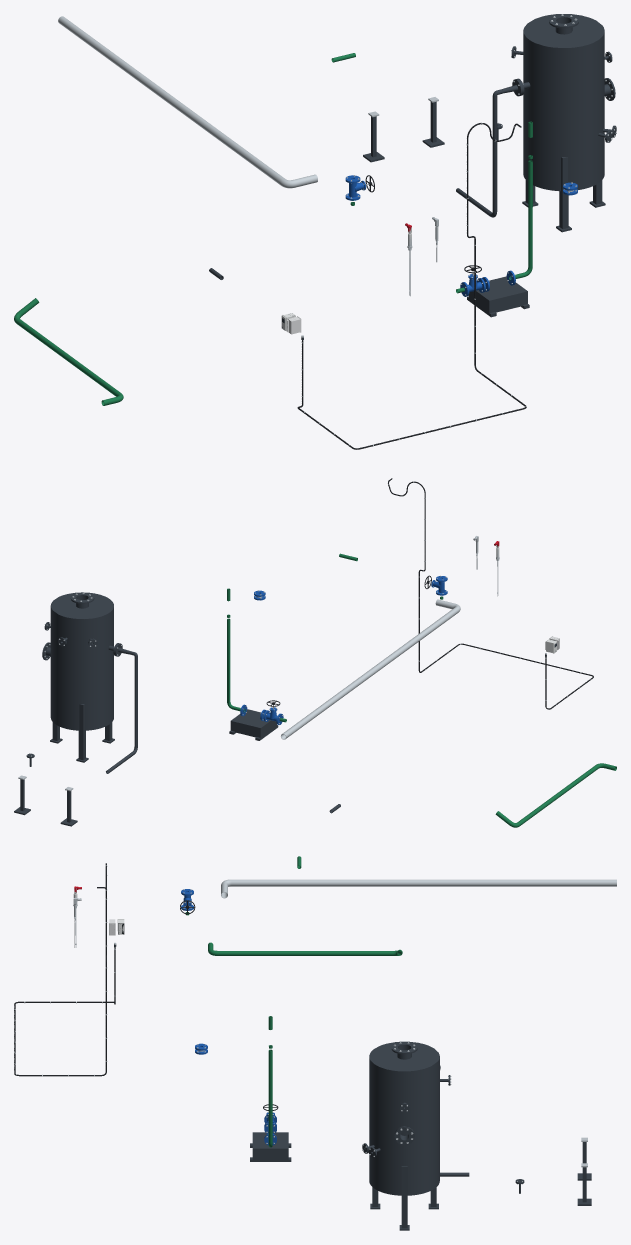
3 views of the same model, one above another, from view 1: azimuth 30°, elevation 25°; view 2: azimuth 150°, elevation 25°; view 3: azimuth 270°, elevation 25° (orthographic). The views are drawn at different scales.
Parts seen in each view (by area): view 1: separator_bdv60_5 / dark, safety_vent_2 / steel, pump_branch_2 / dark, wiring_pressure_switch_2 / black, bottom_to_bdv / dark, deaerator_feed / green, pump_branch_2 / green, trap_support / dark; view 2: separator_bdv60_5 / dark, safety_vent_2 / steel, wiring_pressure_switch_2 / black, pump_branch_2 / dark, deaerator_feed / green, bottom_to_bdv / dark, pump_branch_2 / green, trap_support / dark; view 3: separator_bdv60_5 / dark, safety_vent_2 / steel, wiring_pressure_switch_2 / black, deaerator_feed / green, pump_branch_2 / dark, pump_branch_2 / green.
Boxes of the visible parts, bbox=[...] form: separator_bdv60_5 / dark: bbox=[511, 14, 616, 232]; safety_vent_2 / steel: bbox=[58, 16, 317, 188]; pump_branch_2 / dark: bbox=[467, 276, 529, 317]; wiring_pressure_switch_2 / black: bbox=[297, 123, 526, 449]; bottom_to_bdv / dark: bbox=[456, 79, 522, 217]; deaerator_feed / green: bbox=[14, 298, 123, 405]; pump_branch_2 / green: bbox=[456, 121, 532, 293]; trap_support / dark: bbox=[363, 101, 444, 162]; separator_bdv60_5 / dark: bbox=[42, 592, 118, 762]; safety_vent_2 / steel: bbox=[281, 599, 460, 739]; wiring_pressure_switch_2 / black: bbox=[388, 478, 593, 709]; pump_branch_2 / dark: bbox=[229, 709, 278, 740]; deaerator_feed / green: bbox=[495, 763, 616, 827]; bottom_to_bdv / dark: bbox=[106, 643, 137, 773]; pump_branch_2 / green: bbox=[227, 588, 286, 722]; trap_support / dark: bbox=[14, 779, 77, 826]; separator_bdv60_5 / dark: bbox=[362, 1041, 450, 1230]; safety_vent_2 / steel: bbox=[221, 879, 616, 898]; wiring_pressure_switch_2 / black: bbox=[14, 863, 115, 1076]; deaerator_feed / green: bbox=[208, 942, 402, 955]; pump_branch_2 / dark: bbox=[250, 1132, 291, 1161]; pump_branch_2 / green: bbox=[268, 1016, 272, 1147].
Bounding box in the file's own units: 6.73 × 2.88 × 6.53.
